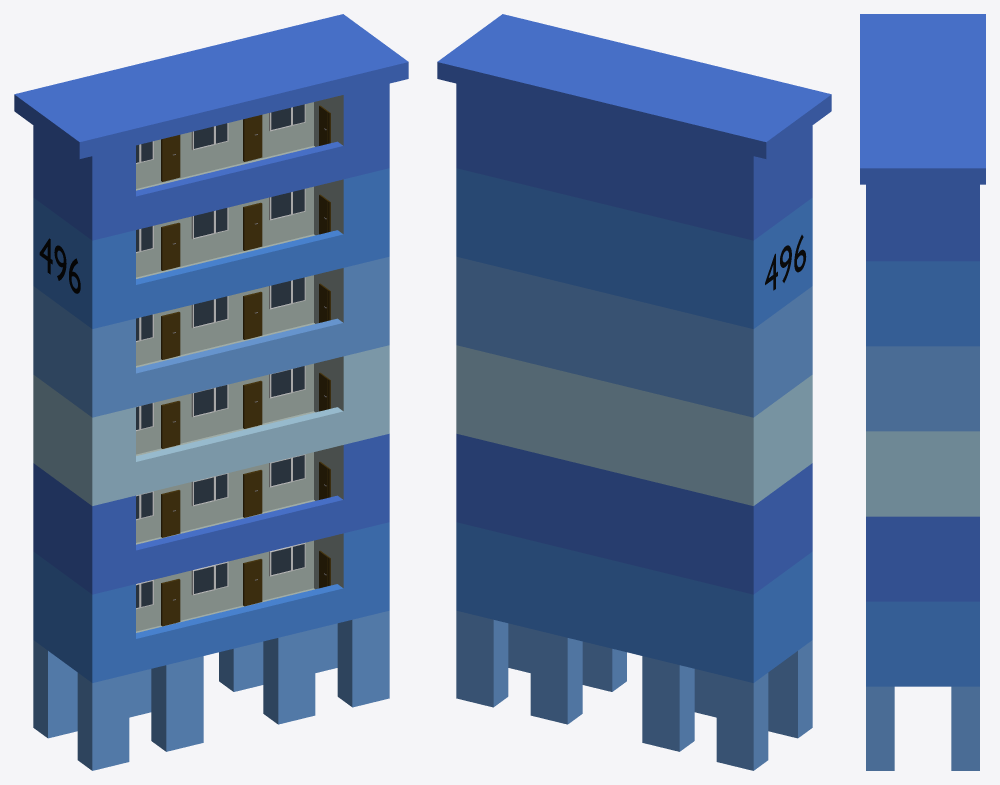
File: HDB_Blue.fbx
3 renders of one model, left to right at view 1: azimuth 30°, elevation 25°; view 2: azimuth 150°, elevation 25°; view 3: azimuth 270°, elevation 25°, orthographic. The views are drawn at different scales.
Visible parts, largest first — view 1: Buidling.001, Window.035, Window.032, Window.036, Window.029, Window.033, Window.026, Window.030, Window.020, Window.027, Door.032, Door.033 (+14 smaller); view 2: Buidling.001; view 3: Buidling.001.
Boxes of the visible parts, x1=… form: Buidling.001: x1=14, y1=14, x2=408, y2=770; Window.035: x1=191, y1=561, x2=228, y2=595; Window.032: x1=191, y1=473, x2=228, y2=506; Window.036: x1=269, y1=542, x2=305, y2=576; Window.029: x1=191, y1=384, x2=228, y2=417; Window.033: x1=269, y1=454, x2=305, y2=487; Window.026: x1=191, y1=296, x2=228, y2=328; Window.030: x1=269, y1=365, x2=305, y2=398; Window.020: x1=191, y1=207, x2=228, y2=239; Window.027: x1=269, y1=277, x2=305, y2=309; Door.032: x1=243, y1=380, x2=262, y2=428; Door.033: x1=161, y1=401, x2=180, y2=448; Buidling.001: x1=437, y1=14, x2=831, y2=770; Buidling.001: x1=860, y1=14, x2=985, y2=770.
Bounding box in the file's own units: 6422 × 11838 × 2214.
